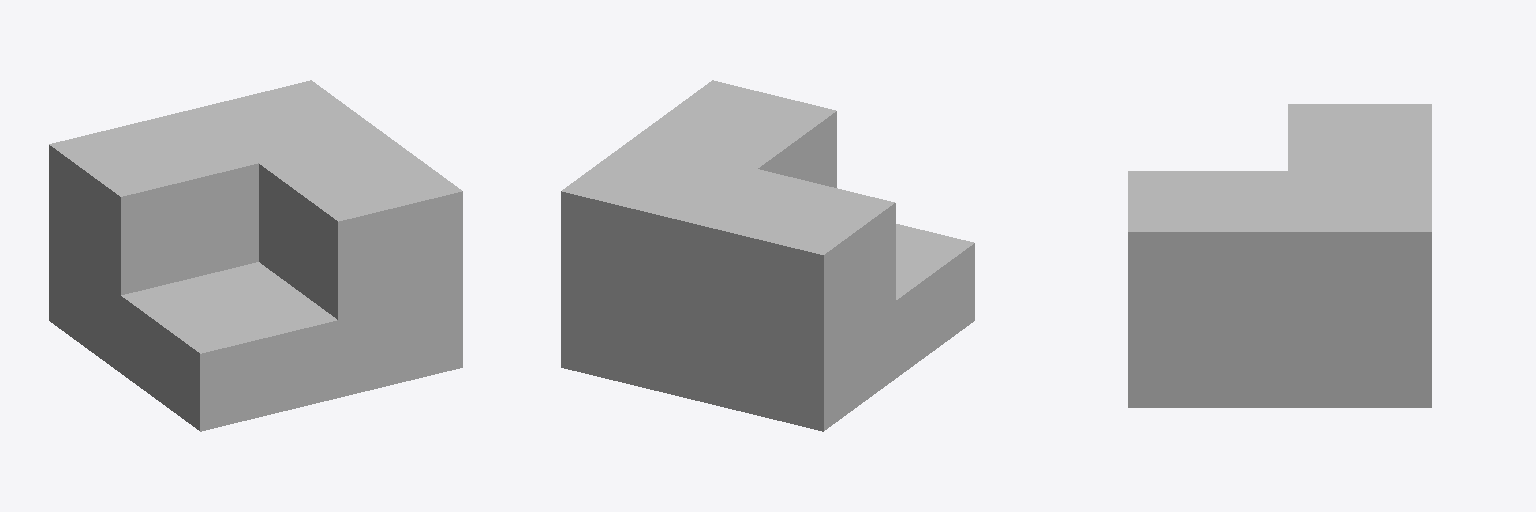
Rendered from tile_basin_corner_inner_01.obj.
The picture shows the model from 3 angles: view 1: azimuth 30°, elevation 25°; view 2: azimuth 150°, elevation 25°; view 3: azimuth 270°, elevation 25°; orthographic projection.
Parts seen in each view (by area): view 1: Basin_Corner_Inner_Cube.012; view 2: Basin_Corner_Inner_Cube.012; view 3: Basin_Corner_Inner_Cube.012.
Part boxes in pixels (left/top/right/bottom): Basin_Corner_Inner_Cube.012: left=49, top=80, right=462, bottom=431; Basin_Corner_Inner_Cube.012: left=561, top=80, right=974, bottom=431; Basin_Corner_Inner_Cube.012: left=1128, top=104, right=1431, bottom=407.
Size of the model in its own units: 2.05 by 1.32 by 2.05.